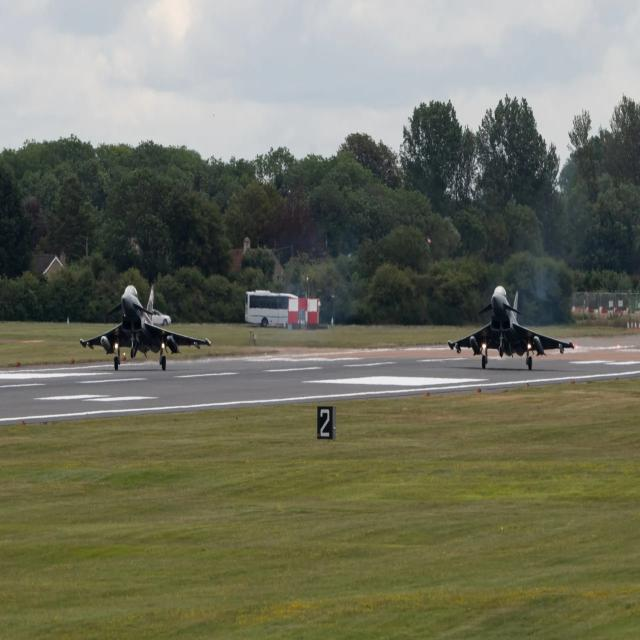MIL_Plane: (80, 284, 211, 370), (448, 285, 575, 370)
